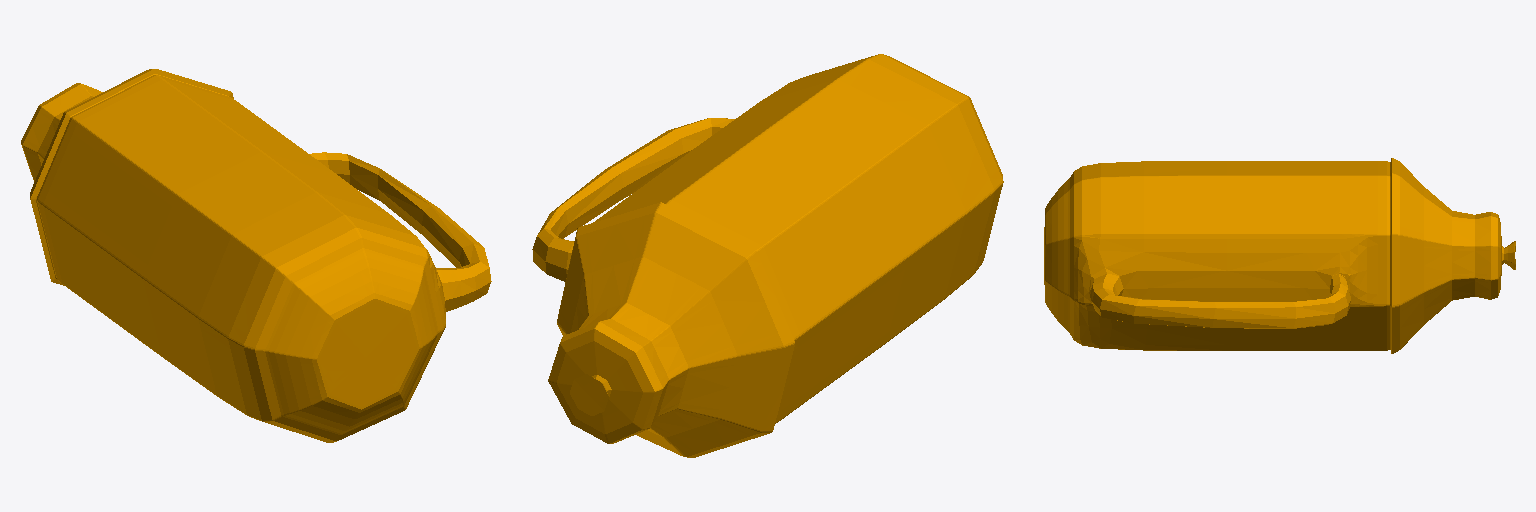
URDF robot description (175):
<?xml version="1.0" ?>
<robot name="175">
  <link name="body">
    <visual>
      <geometry>
        <mesh filename="../shapes/175.obj"/>
      </geometry>
    </visual>
    <collision>
      <geometry>
        <mesh filename="../shapes/175.obj"/>
      </geometry>
    </collision>
  </link>
</robot>

--- Render facts (derived) ---
3 views of the same robot in one strip: view 1: azimuth 30°, elevation 25°; view 2: azimuth 150°, elevation 25°; view 3: azimuth 270°, elevation 25° (orthographic).
Model 175 with 1 links and 0 joints (none), rooted at body, posed every joint at zero.
Links seen in each view (by area): view 1: body; view 2: body; view 3: body.
Link boxes in pixels (x1,y1,x2,y2): body: (21,69,491,442); body: (532,54,1003,457); body: (1044,158,1515,353).
Size in the robot's own frame: 3.4 by 6.15 by 2.52 metres.
Meshes: 1 distinct files referenced, 1 mesh visuals loaded (1 OBJ).